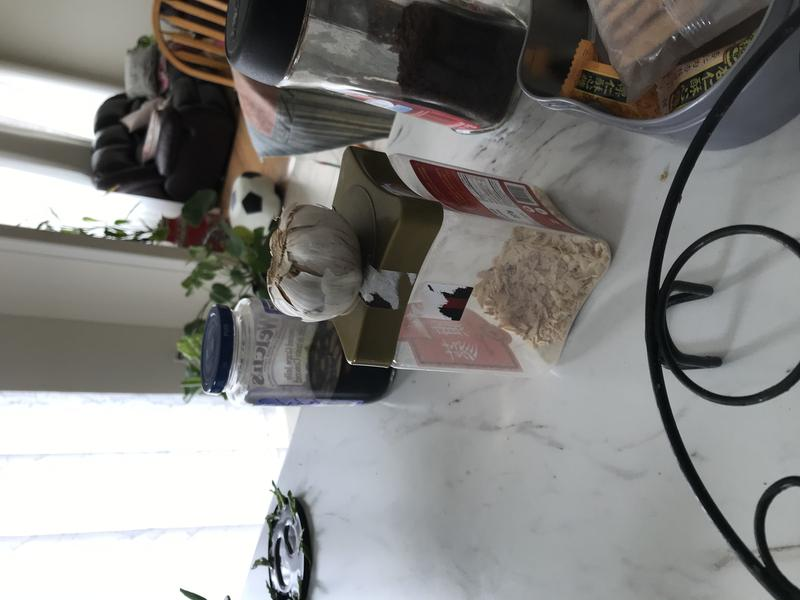garlic: (262, 200, 372, 330)
